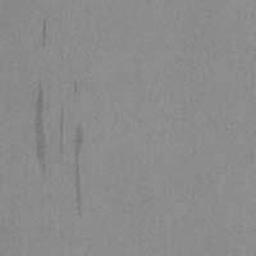Inclusion: (35, 84, 46, 174), (75, 124, 83, 216), (59, 108, 64, 137), (42, 19, 47, 47)
